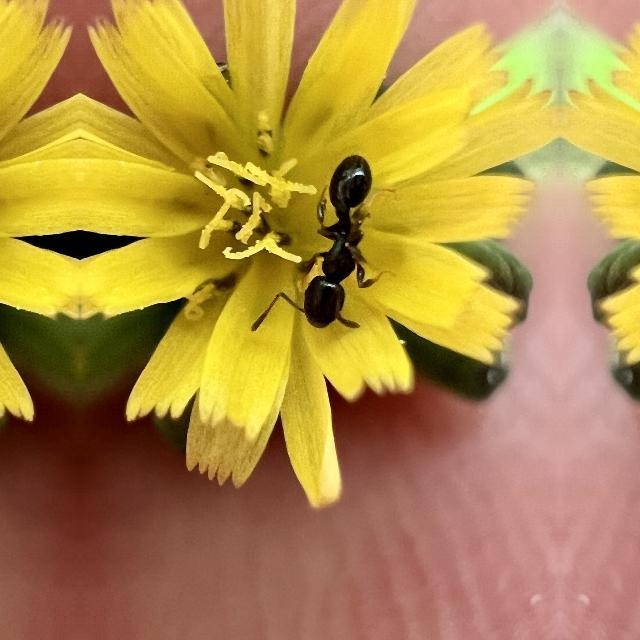Temnothorax: (262, 137, 426, 353)
